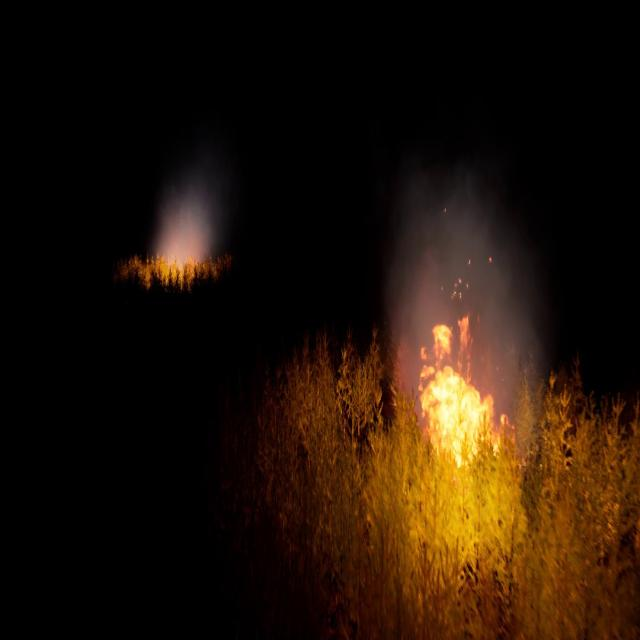fire: (416, 309, 518, 461)
smoke: (380, 168, 543, 444), (150, 177, 228, 272)
